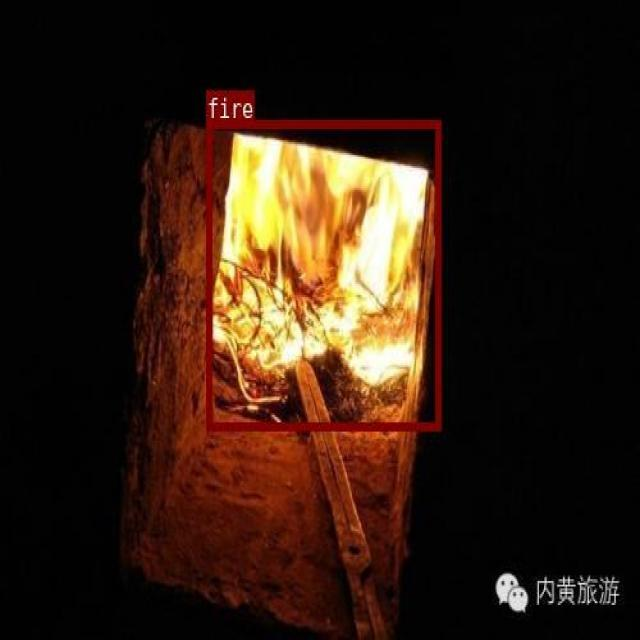fire: (205, 119, 440, 429)
